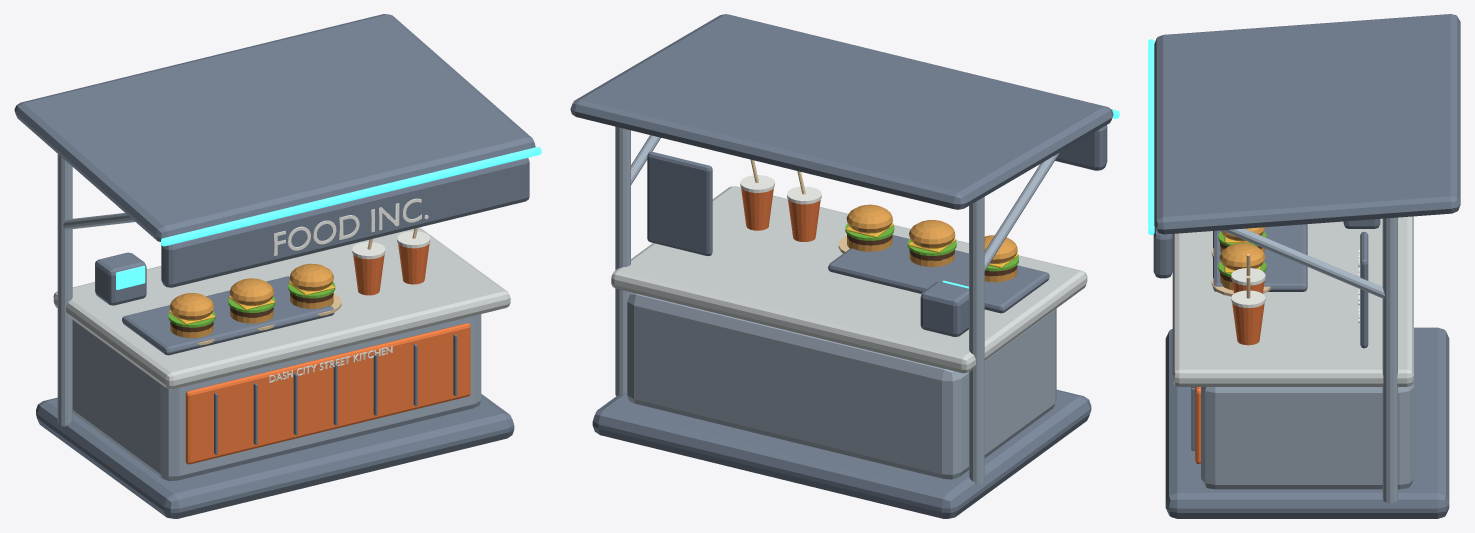
File: food-market.glb
3 views of the same model, side by side, from view 1: azimuth 30°, elevation 25°; view 2: azimuth 150°, elevation 25°; view 3: azimuth 270°, elevation 25° (orthographic). The views are drawn at different scales.
Visible parts, largest first — view 1: Floating plinth, Stone serving counter, Counter body, Orange counter front, Neon roof edge, Lower bun, FOOD INC., Lettuce, Patty; view 2: Floating plinth, Counter body, Stone serving counter, Lower bun, Orange counter front, FOOD INC., Lettuce, Patty; view 3: Floating plinth, Stone serving counter, Counter body, Orange counter front, Neon roof edge, Lower bun, FOOD INC., Task light.
Part boxes in pixels (box(x1,y1,x2,y2)): Floating plinth: box(14, 14, 535, 518); Stone serving counter: box(53, 227, 510, 389); Counter body: box(57, 154, 481, 480); Orange counter front: box(185, 243, 470, 464); Neon roof edge: box(116, 147, 541, 289); Lower bun: box(169, 263, 333, 338); FOOD INC.: box(269, 198, 430, 382); Lettuce: box(168, 282, 335, 327); Patty: box(170, 292, 333, 332); Floating plinth: box(570, 14, 1113, 518); Counter body: box(615, 126, 1059, 484); Stone serving counter: box(611, 186, 1087, 373); Lower bun: box(846, 204, 1017, 282); Orange counter front: box(741, 188, 820, 241); FOOD INC.: box(740, 175, 821, 204); Lettuce: box(845, 223, 1018, 271); Patty: box(847, 234, 1017, 276); Floating plinth: box(1153, 14, 1460, 518); Stone serving counter: box(1172, 216, 1413, 386); Counter body: box(1201, 217, 1413, 502); Orange counter front: box(1195, 281, 1264, 463); Neon roof edge: box(1148, 39, 1154, 234); Lower bun: box(1219, 227, 1265, 290); FOOD INC.: box(1231, 249, 1359, 322); Task light: box(1211, 248, 1270, 298).
Bounding box in the file's own units: 3.8 × 3.09 × 2.64.
